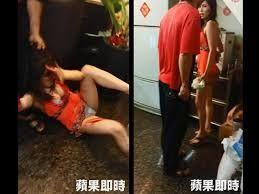Fall-Detected: (15, 52, 129, 163)
